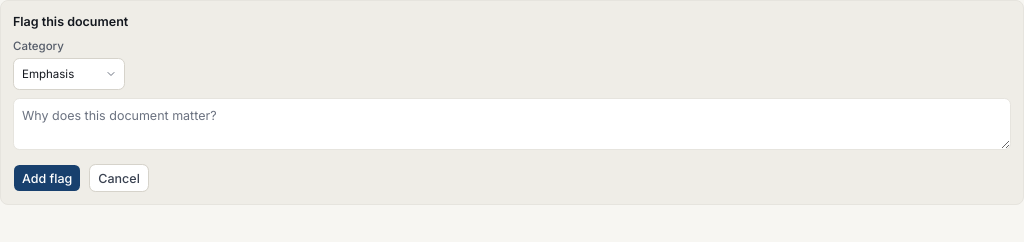
it: FlagComposer — submit › a rejected action shows an inline error and keeps the note (F1001)
This screenshot has width=1024, height=242.
Type "keep me" into the text box named "Note" at (512, 124), box 13,98 -> 1011,150
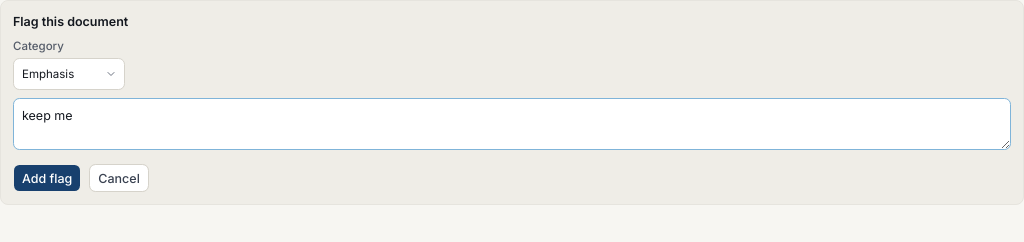
Click the button "Add flag" at (47, 178), box 13,164 -> 81,192
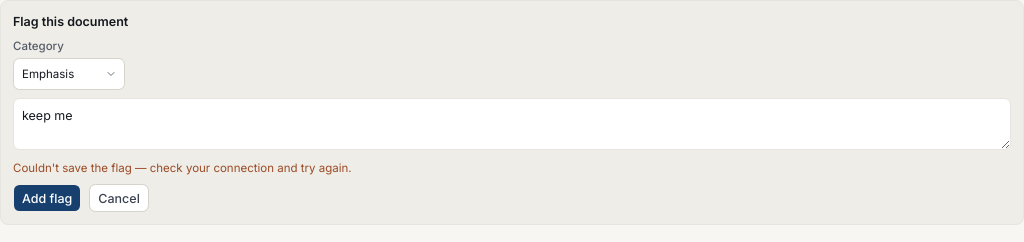
expect the message shows "Couldn't save": met, box 13,161 -> 352,175
